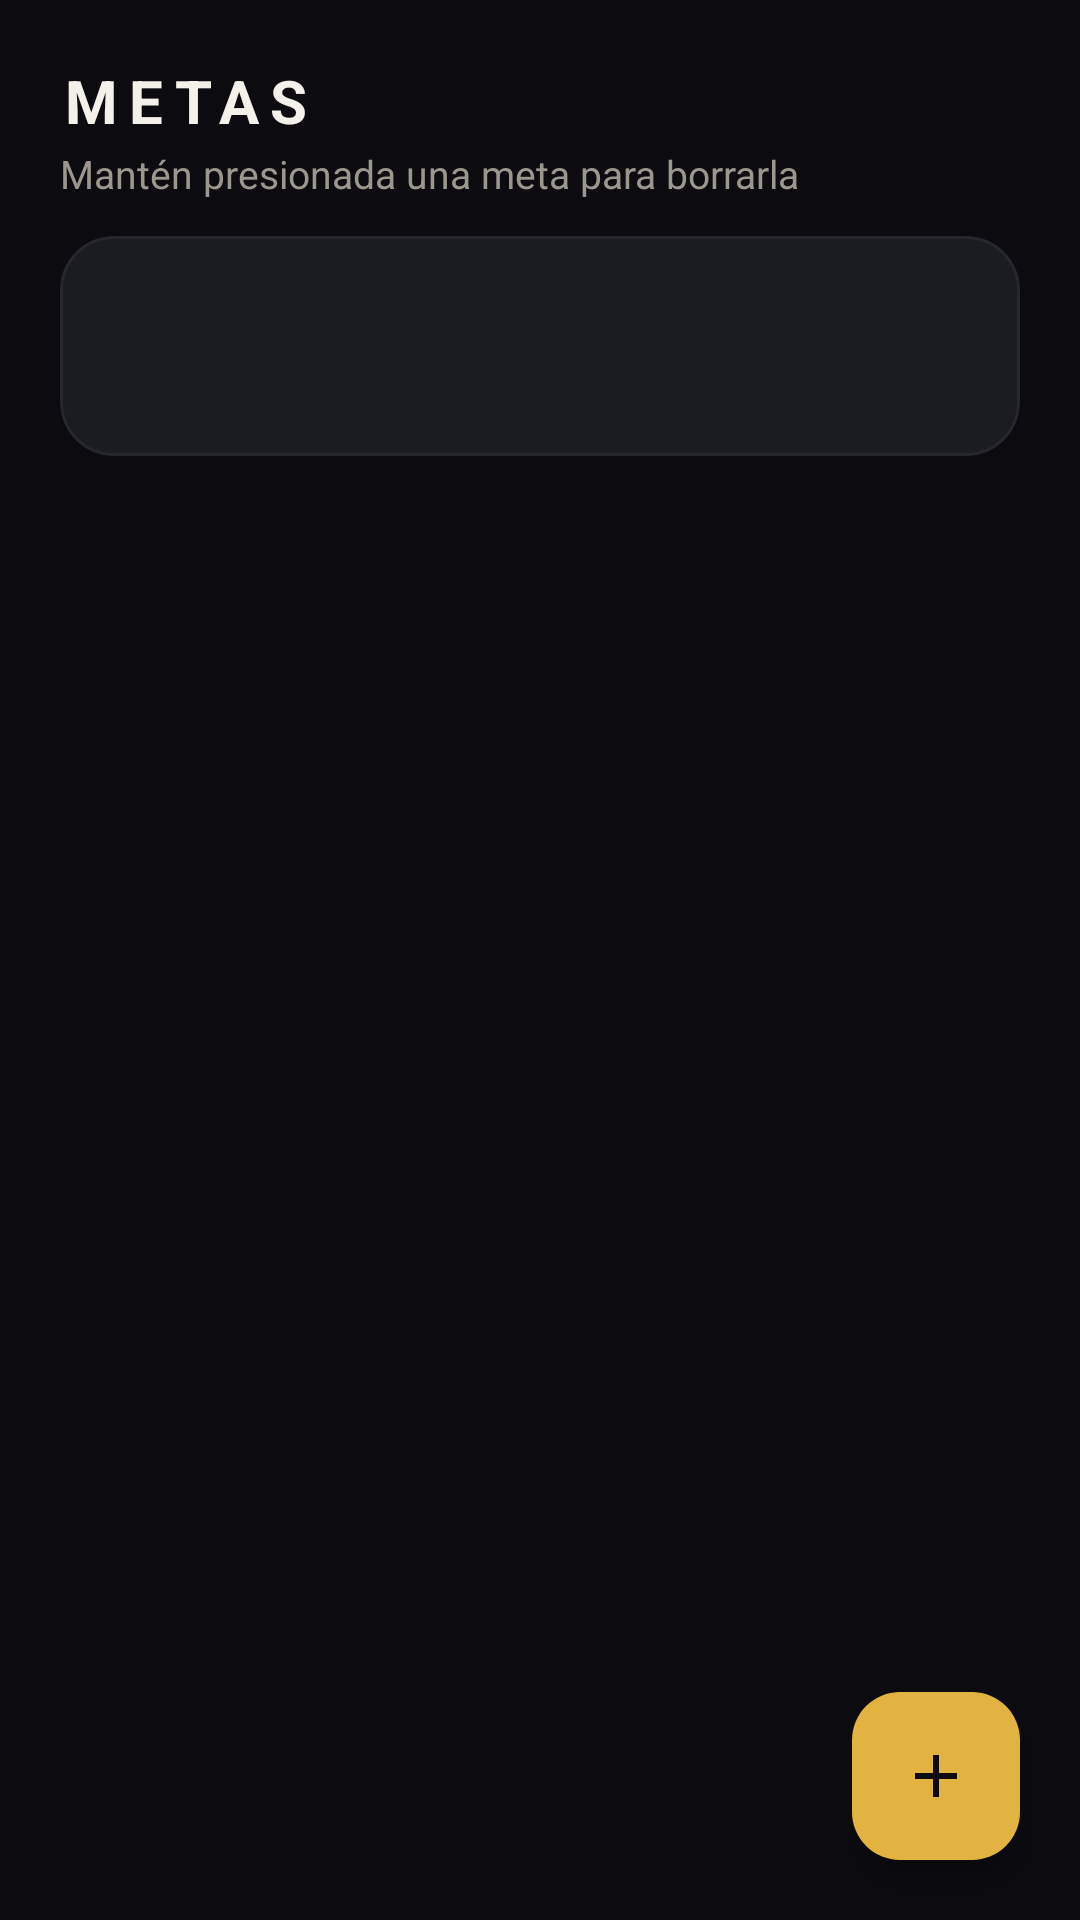

Screen size 1080 x 1920. Icon name, then its box in pixels as (x1, y1, x2, y2):
Agregar meta: (852, 1692, 1020, 1860)
